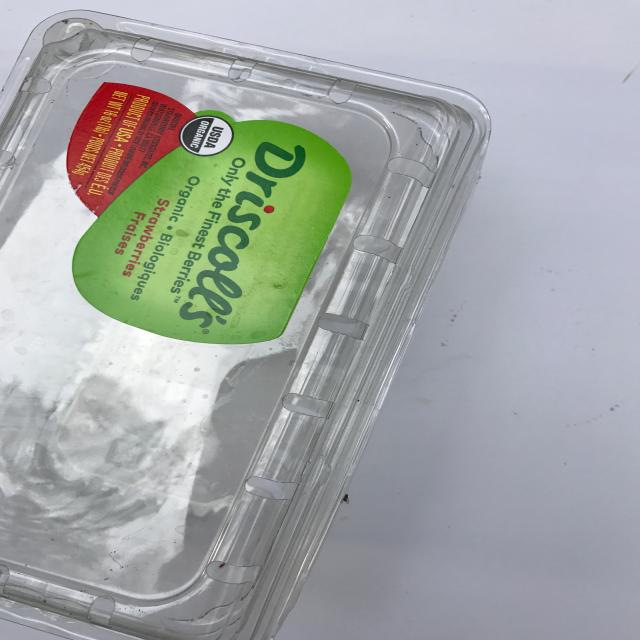plastic: (0, 10, 492, 640)
